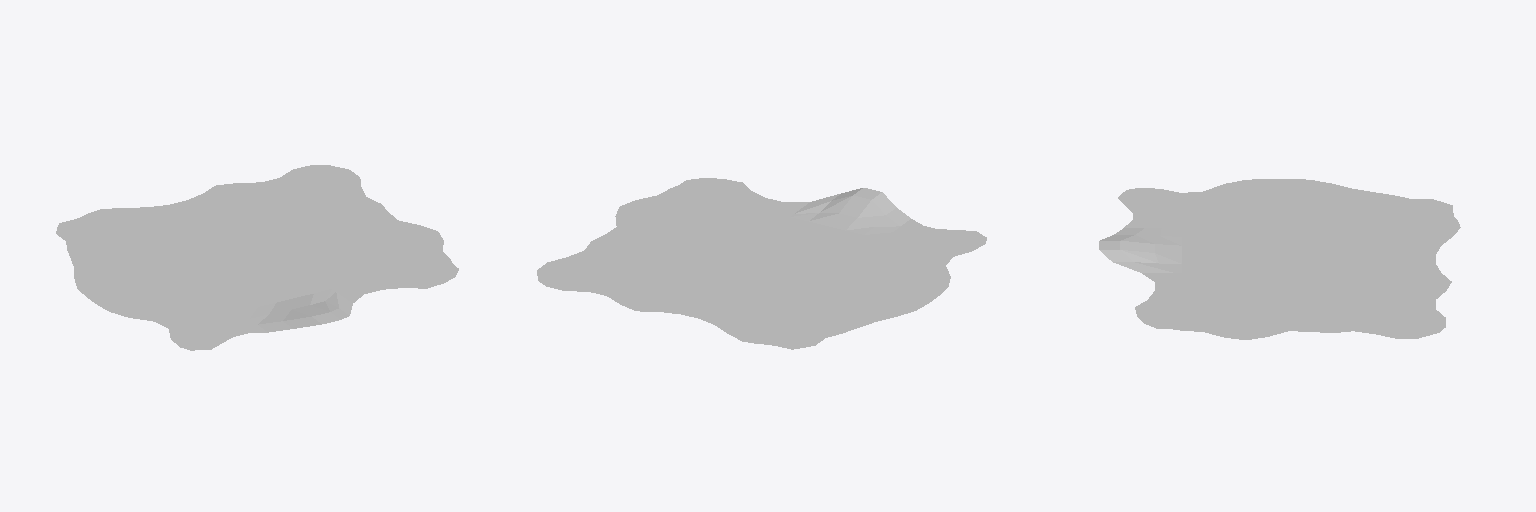
File: rug moment.obj
3 views of the same model, side by side, from view 1: azimuth 30°, elevation 25°; view 2: azimuth 150°, elevation 25°; view 3: azimuth 270°, elevation 25° (orthographic).
Visible parts, largest first — view 1: rug_Plane; view 2: rug_Plane; view 3: rug_Plane.
Boxes of the visible parts, <box> form: rug_Plane: <box>56,165,458,350</box>; rug_Plane: <box>537,178,986,349</box>; rug_Plane: <box>1099,179,1460,339</box>.
Bounding box in the file's own units: 10.85 × 0.2243 × 10.26.